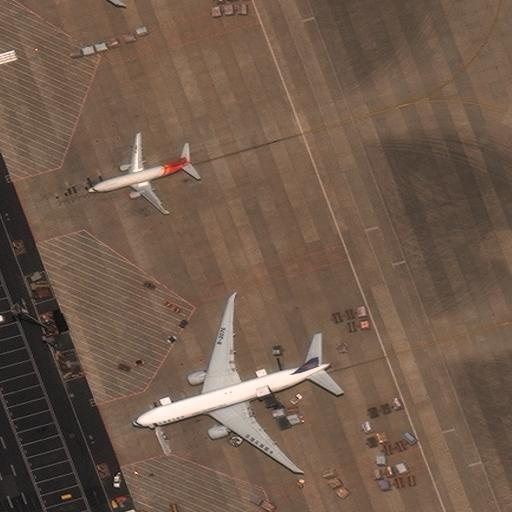Large Civil Transport: (133, 297, 331, 473)
Medium Civil Transport: (88, 134, 191, 214)
